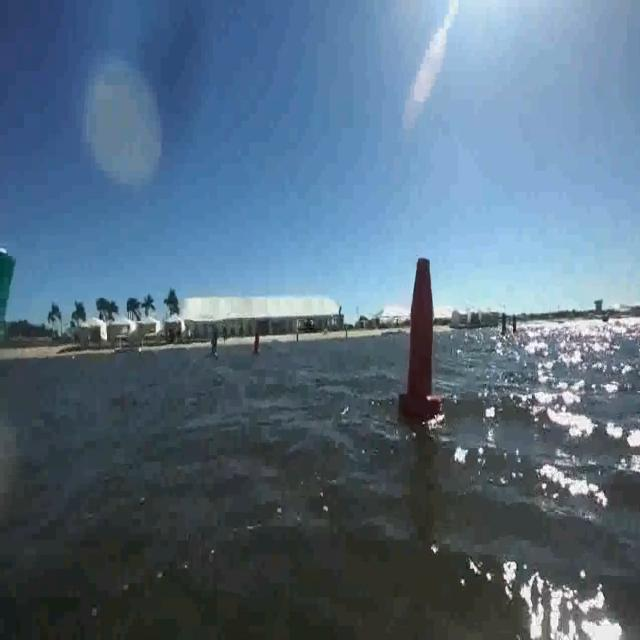green-column-buoy: (209, 326, 221, 361)
red-column-buoy: (401, 251, 444, 423), (252, 332, 262, 357)
